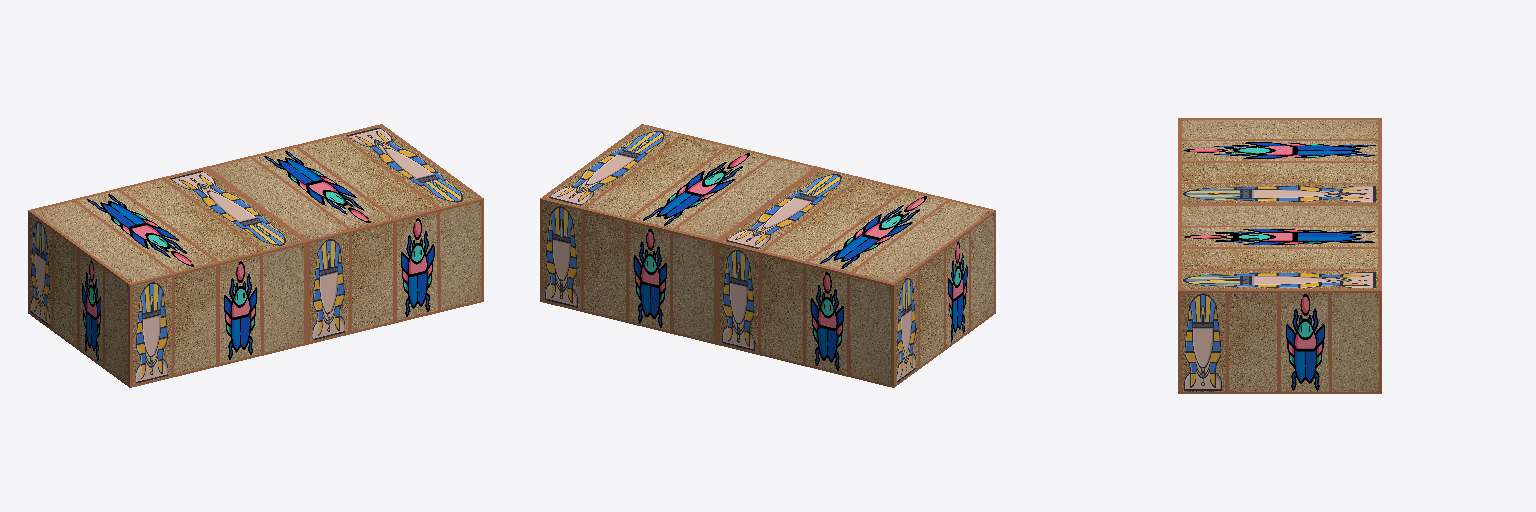
3 renders of one model, left to right at view 1: azimuth 30°, elevation 25°; view 2: azimuth 150°, elevation 25°; view 3: azimuth 270°, elevation 25°, orthographic.
Parts seen in each view (by area): view 1: Box142; view 2: Box142; view 3: Box142.
Boxes of the visible parts, <box> form: Box142: <box>28,124,483,387</box>; Box142: <box>540,124,995,387</box>; Box142: <box>1178,118,1381,393</box>.
Size of the model in its own units: 9 by 2.5 by 4.5.
Materials: 1 (1 with a texture image).